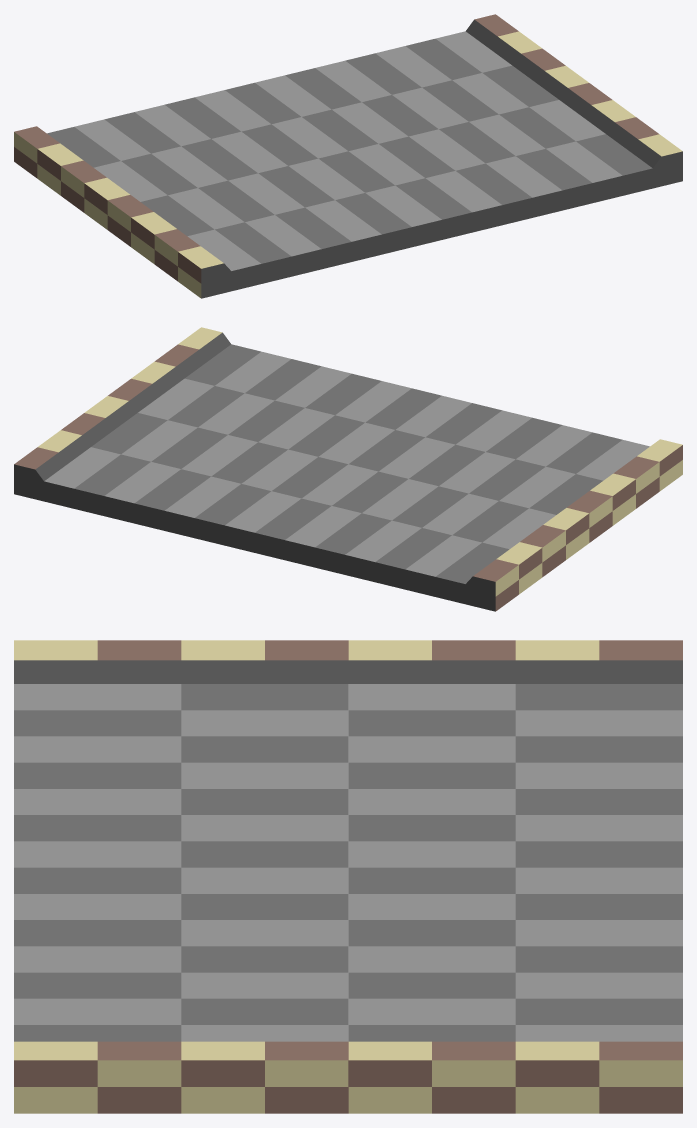
The model's file is ManRoad.fbx.
The picture shows the model from 3 angles, top to bottom: view 1: azimuth 30°, elevation 25°; view 2: azimuth 150°, elevation 25°; view 3: azimuth 270°, elevation 25°; orthographic projection. The views are drawn at different scales.
Parts seen in each view (by area): view 1: Cube; view 2: Cube; view 3: Cube.
Part boxes in pixels (x1,y1,x2,y2): Cube: [14, 14, 682, 298]; Cube: [14, 327, 682, 611]; Cube: [14, 640, 682, 1113].
Size of the model in its own units: 1662 by 98.46 by 1120.
